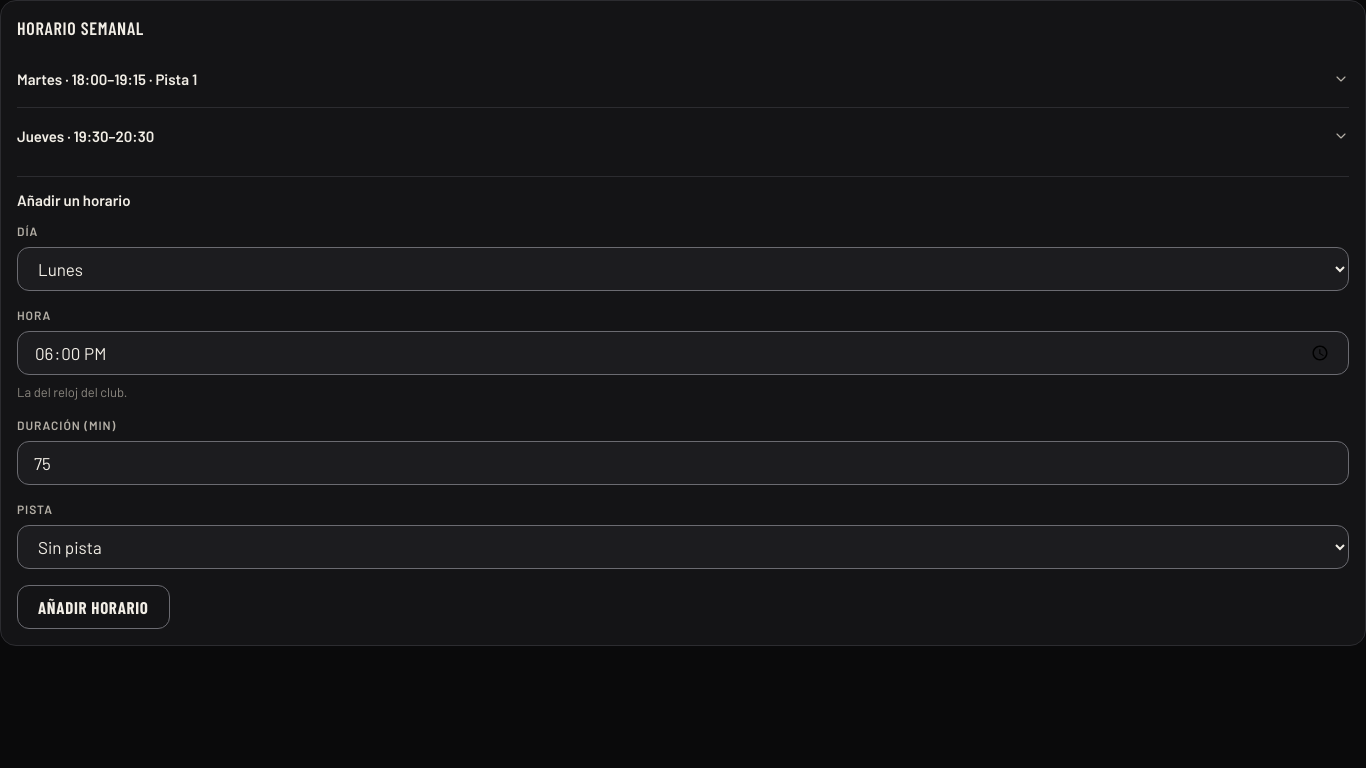
Test: ScheduleSection · añadir un horario › al acabar dice cuántos entrenamientos ha creado: con 1, «Horario creado: 1 entrenamiento hasta el final de la temporada.»
The width and height of the screenshot is (1366, 768).
Click the button "Añadir horario" at (93, 607), box top-left (17, 585), bottom-right (170, 629)
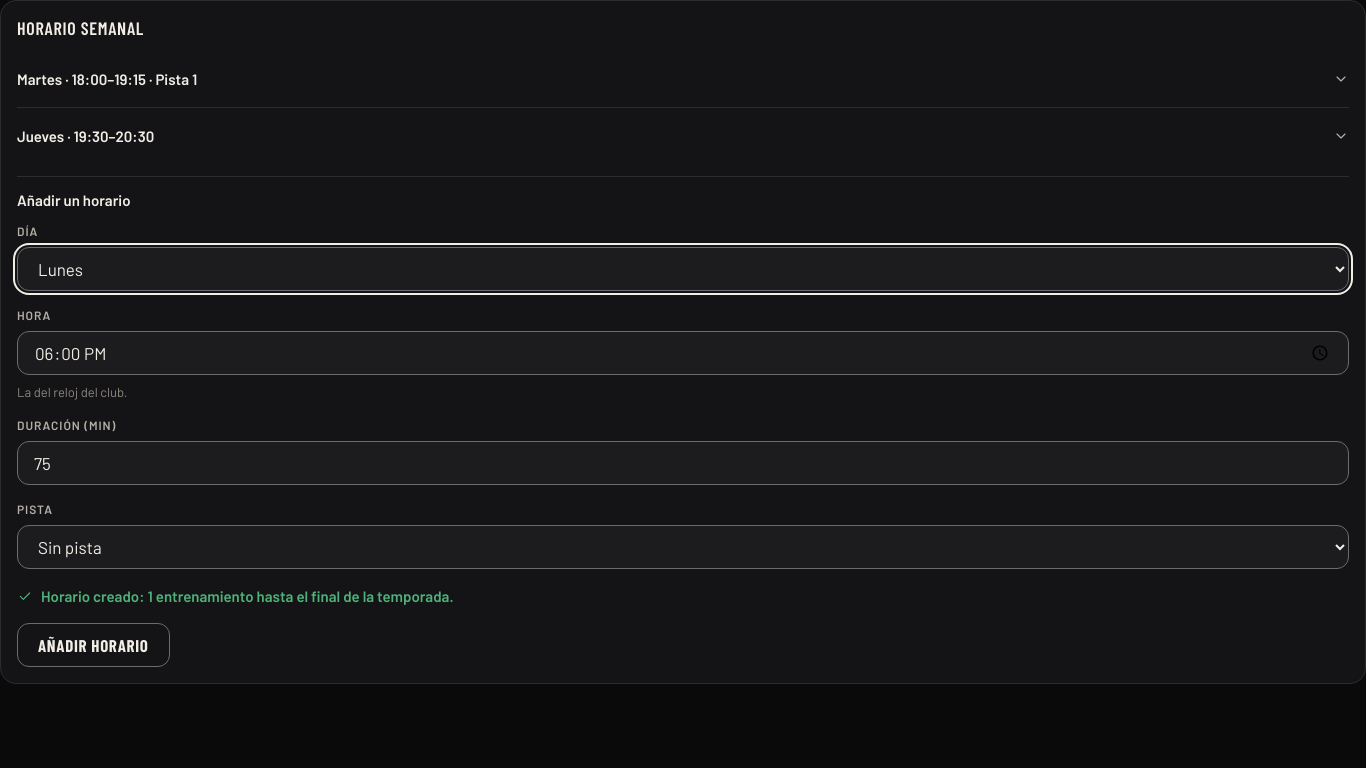
Check: the text "Horario creado: 1 entrenamiento hasta el final de la temporada." is shown, box top-left (17, 587), bottom-right (454, 605)
